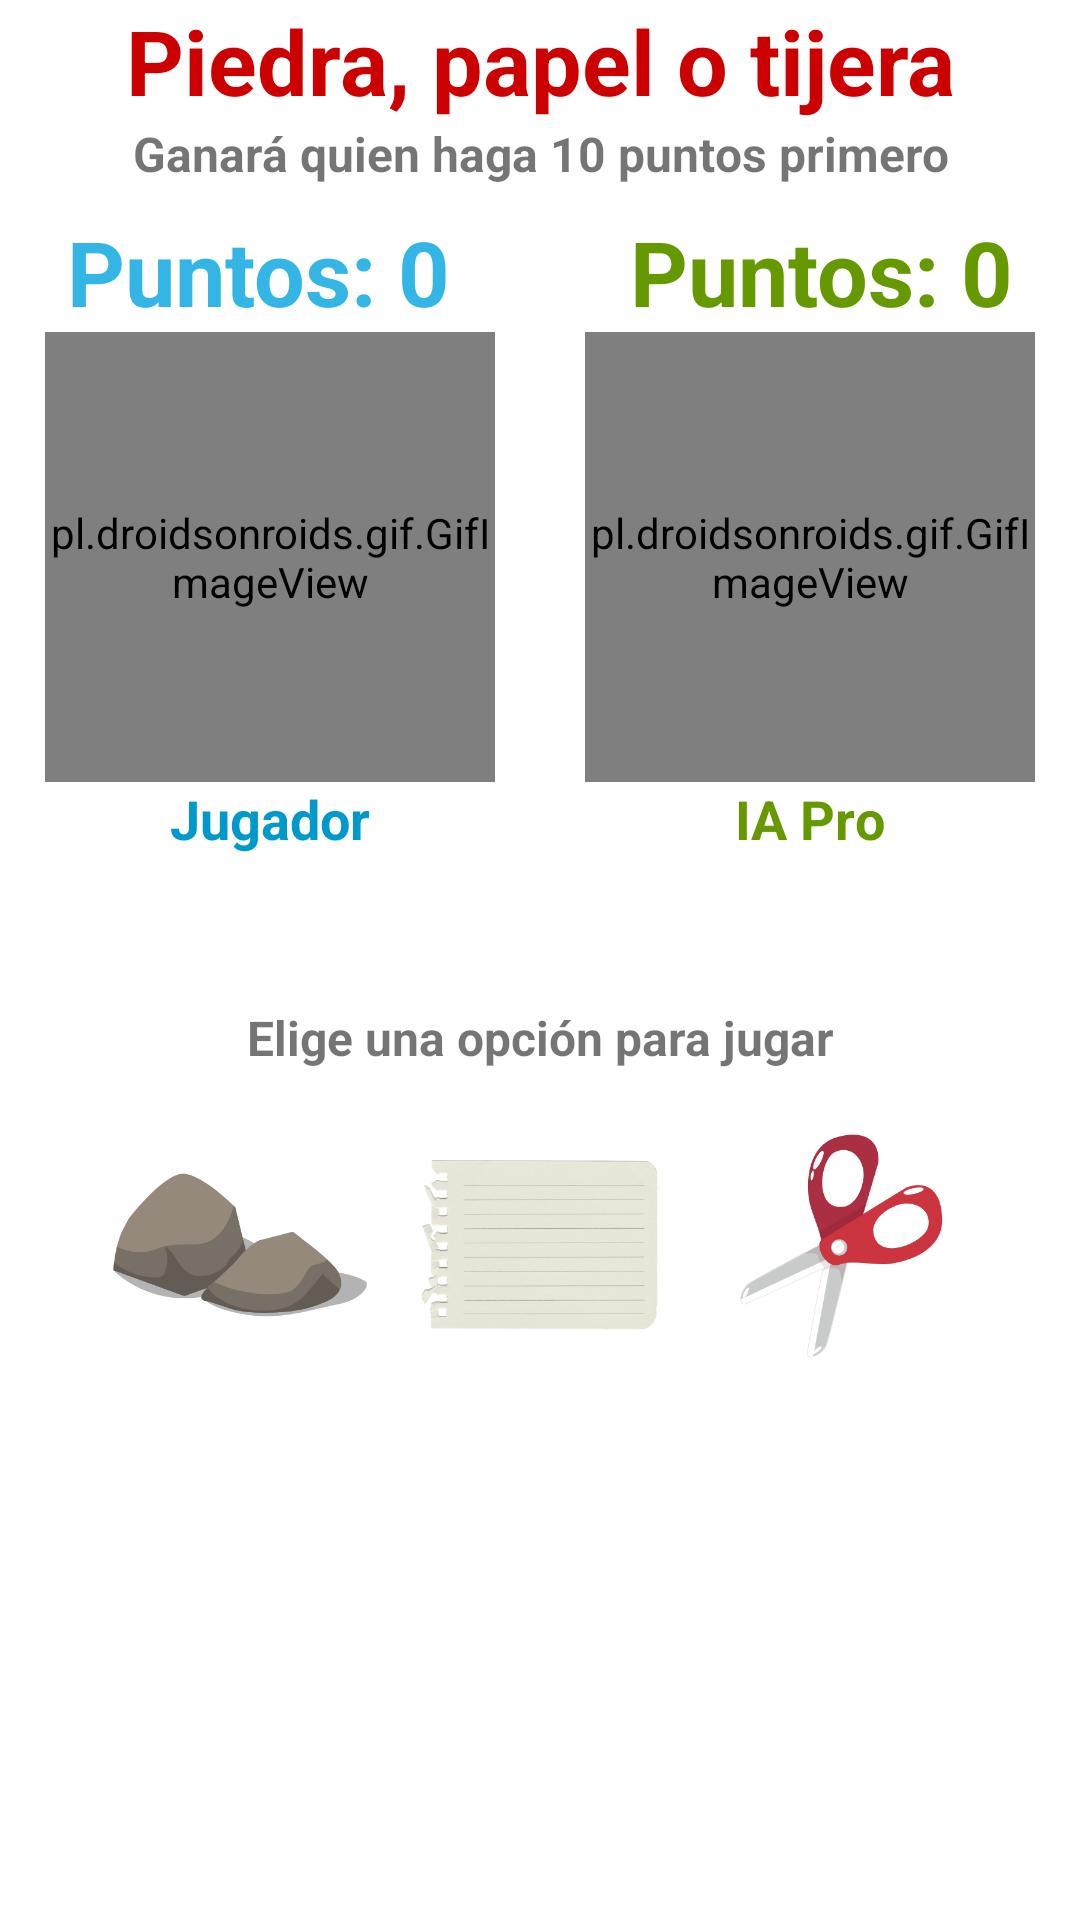

Named icons in this screenshot (1080 × 1920) and their bounding boxes, [left=x1, top=y1, right=x2, bottom=y2]:
pap: [left=422, top=1160, right=657, bottom=1329]
pie: [left=113, top=1173, right=367, bottom=1316]
tij: [left=741, top=1134, right=943, bottom=1356]
